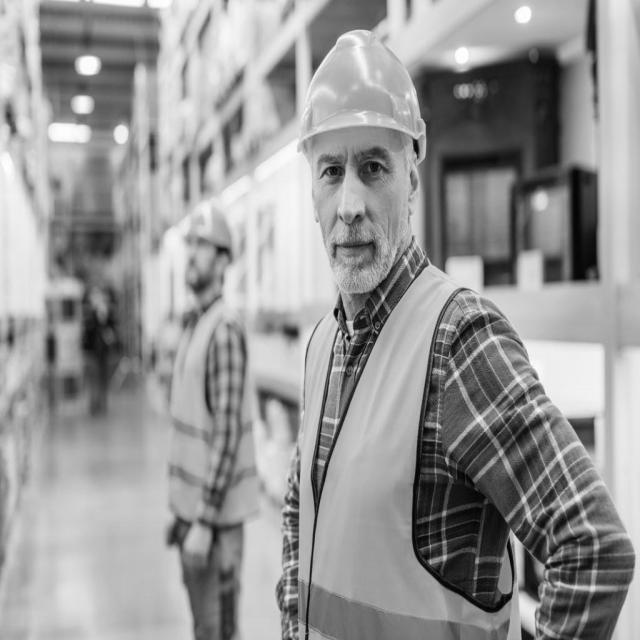safety_helmet: (299, 34, 427, 164)
